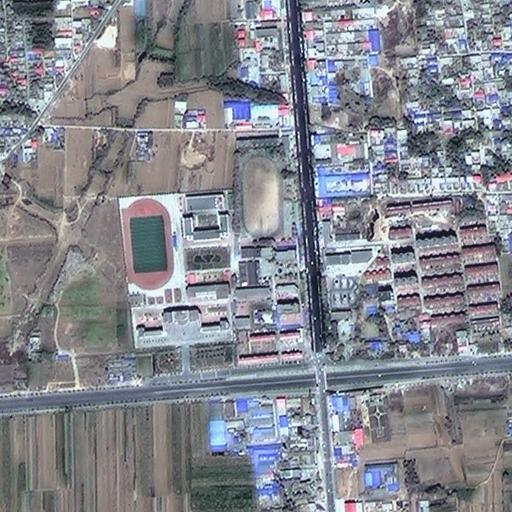school: (117, 188, 231, 349)
